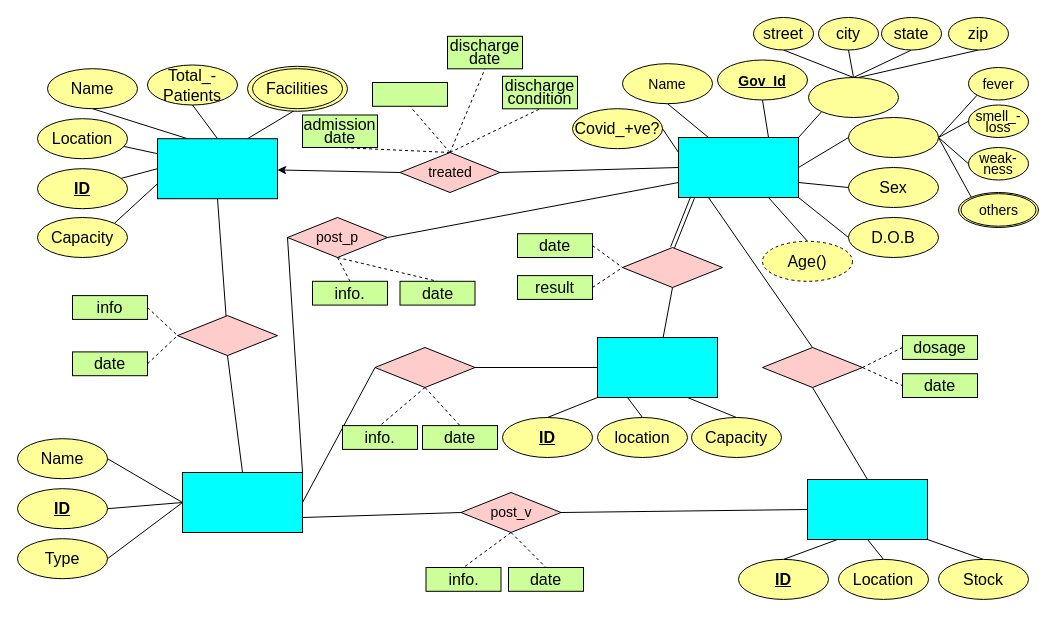
Some shapes in this 1056 by 617 pixel diagram are drawn without their labels. Each missing label, with the centre of its shape:
"Address" goes at [853,97].
"Hospital" goes at [217,168].
"Patient" goes at [738,167].
"post_h" goes at [227,335].
"post_t" goes at [424,367].
"Social Media" goes at [242,502].
"Symptoms" goes at [893,137].
"tested" goes at [672,267].
"Testing Lab" goes at [657,367].
"treatment" goes at [410,94].
"vaccinated" goes at [812,367].
"Vaccination centre" goes at [867,509].
